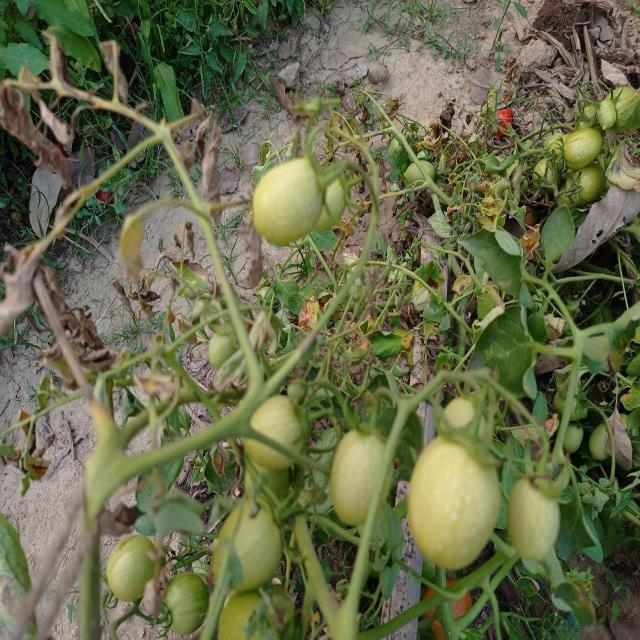Unripe: (407, 430, 498, 570), (330, 419, 393, 527), (212, 495, 282, 591), (251, 158, 324, 248), (510, 472, 561, 561), (163, 570, 210, 639)
